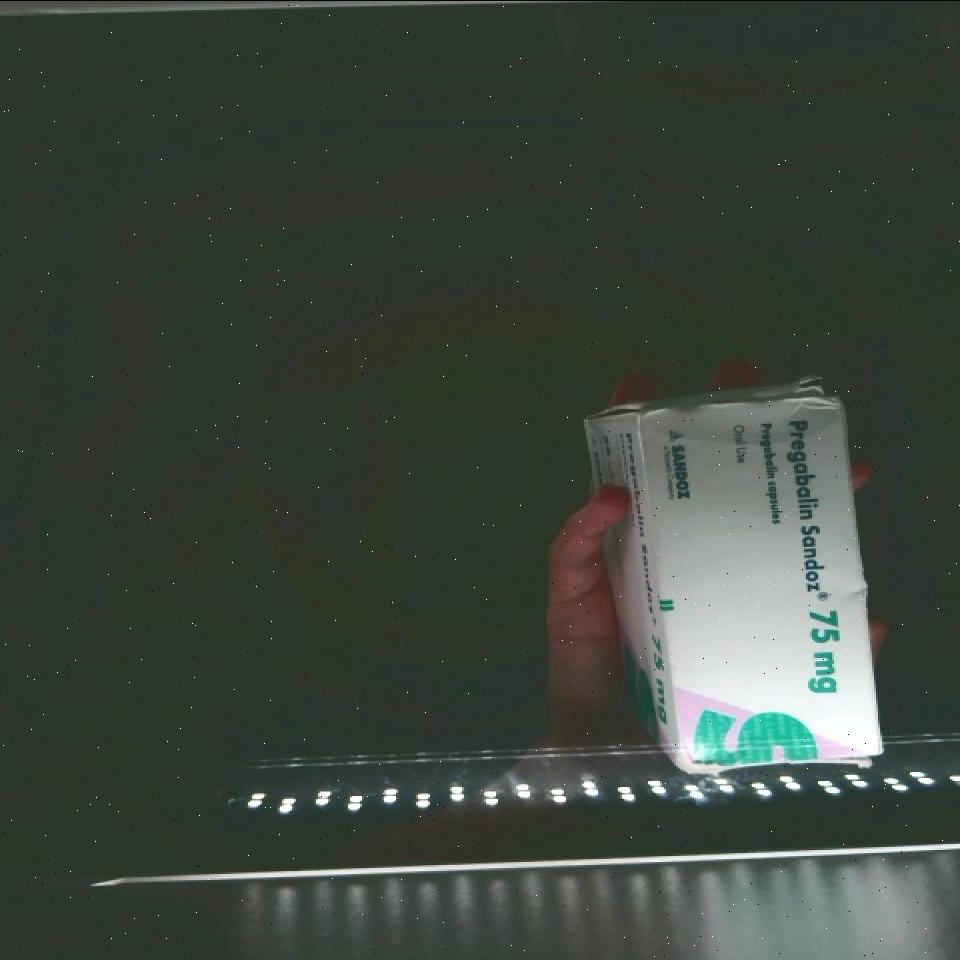medicine_box: (633, 379, 883, 783)
medicine_label_obb: (770, 401, 846, 603)
